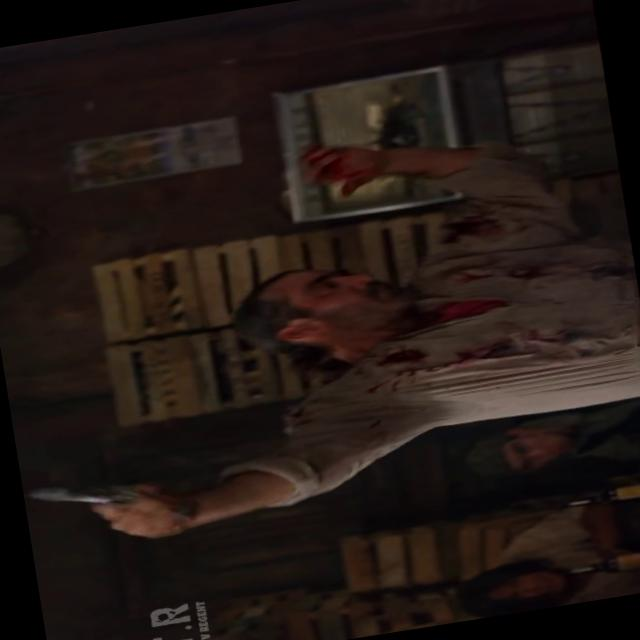handgun: (22, 462, 172, 521)
